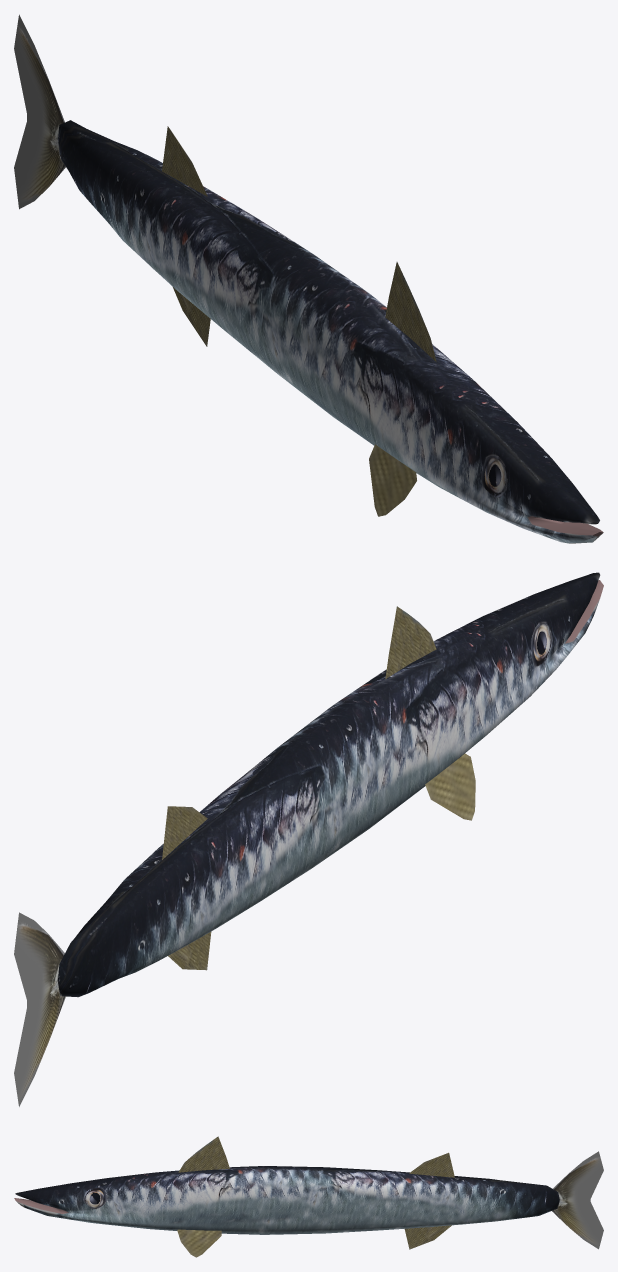
Rendered from barracuda.fbx.
3 renders of one model, top to bottom at view 1: azimuth 30°, elevation 25°; view 2: azimuth 150°, elevation 25°; view 3: azimuth 270°, elevation 25°, orthographic. The views are drawn at different scales.
Visible parts, largest first — view 1: pPlane6; view 2: pPlane6; view 3: pPlane6.
Part boxes in pixels (<box>): pPlane6: <box>14,14,603,543</box>; pPlane6: <box>14,572,603,1106</box>; pPlane6: <box>14,1136,603,1257</box>.
Bounding box in the file's own units: 4.98 × 12.12 × 57.15.
